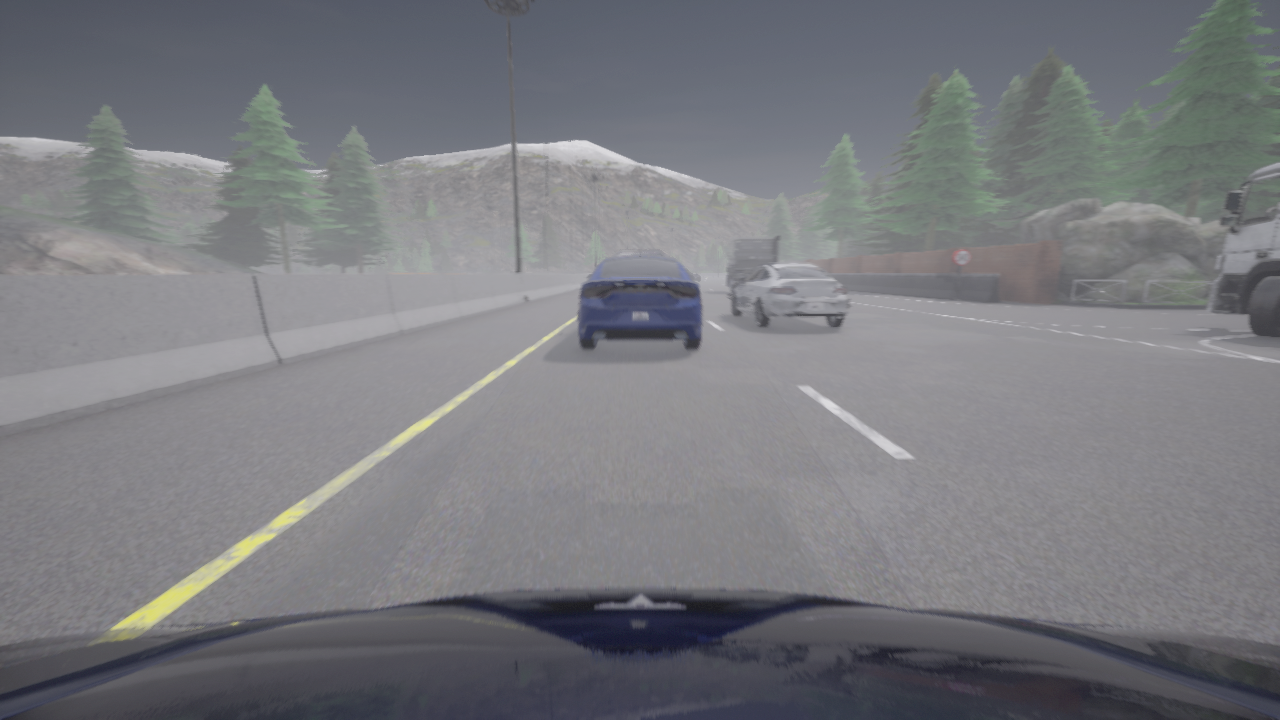cyclist: (0, 588, 1279, 719), (1207, 162, 1279, 337), (578, 254, 701, 349), (726, 263, 851, 328), (724, 235, 780, 292), (611, 251, 668, 257), (689, 271, 698, 281), (685, 269, 690, 275)
